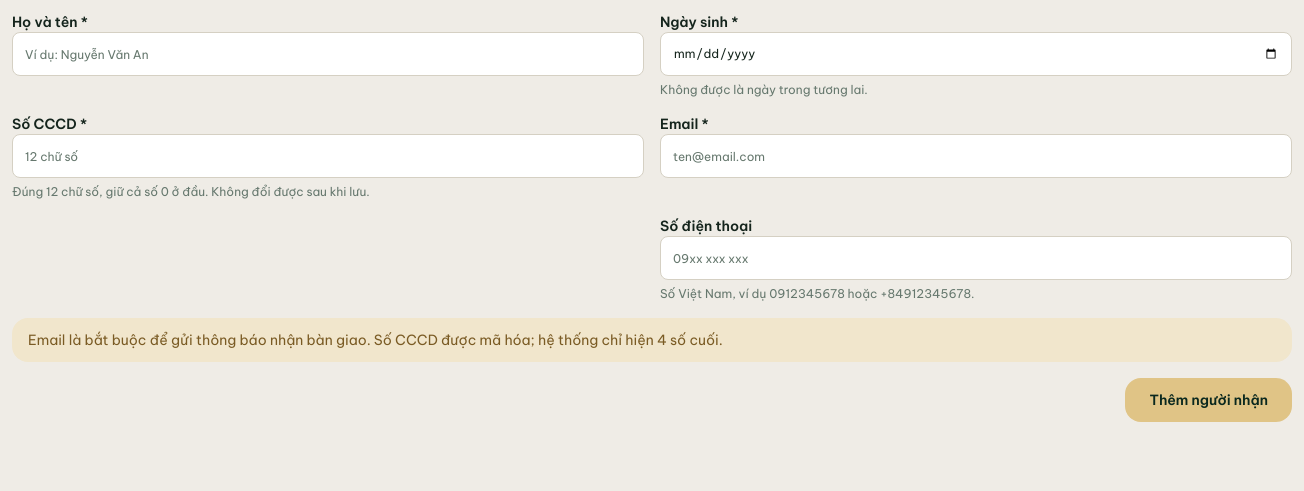
Scenario: form thêm người nhận › bỏ trống họ tên, ngày sinh, email thì báo tiếng Việt, không hiện chữ Invalid
Click the button "Thêm người nhận" at (1209,400), box [1126, 378, 1292, 422]
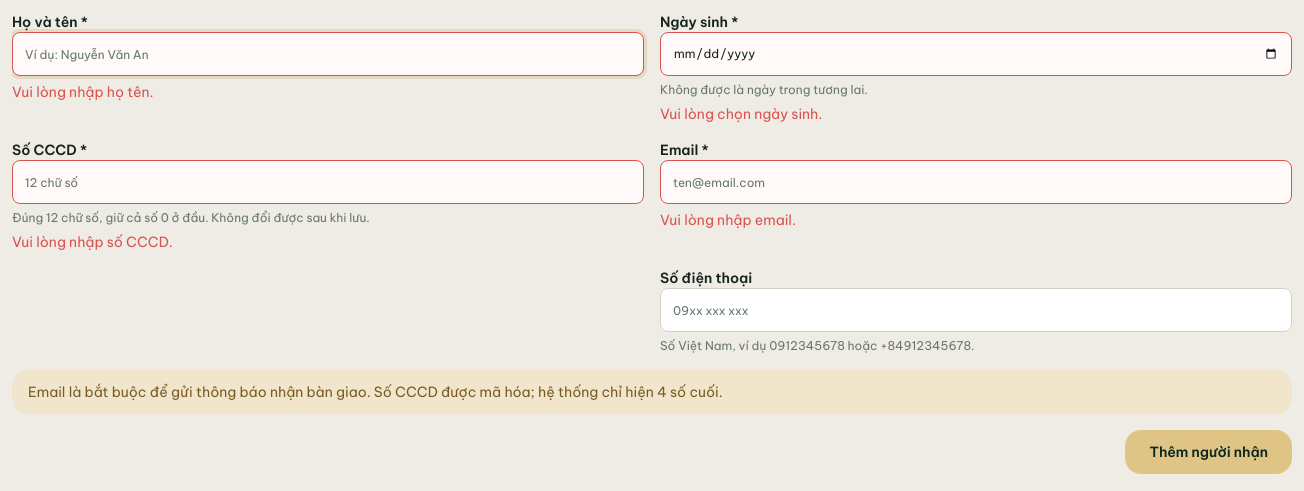
Expected: the text "Vui lòng nhập họ tên." is shown, [12, 83, 154, 101]
Expected: the text "Vui lòng chọn ngày sinh." is shown, [660, 105, 822, 123]
Expected: the text "Vui lòng nhập email." is shown, [660, 211, 796, 229]
